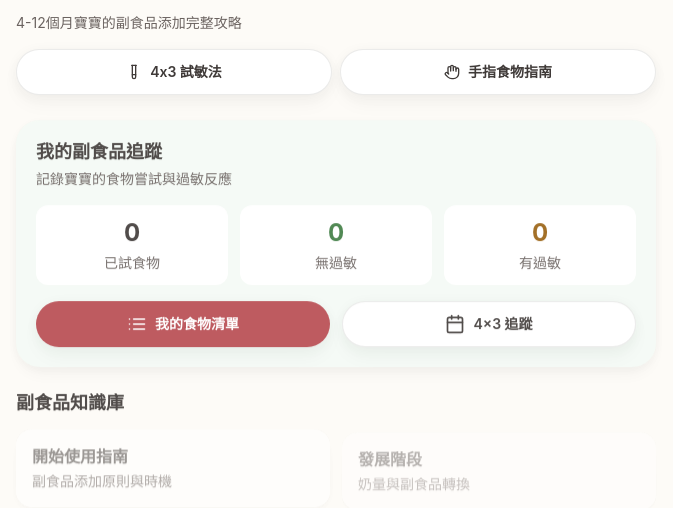
追蹤區的兩個入口 › 「4×3 追蹤」也進到同一個追蹤檢視
Click the button "4×3 追蹤" at (489, 324), box [342, 301, 636, 347]
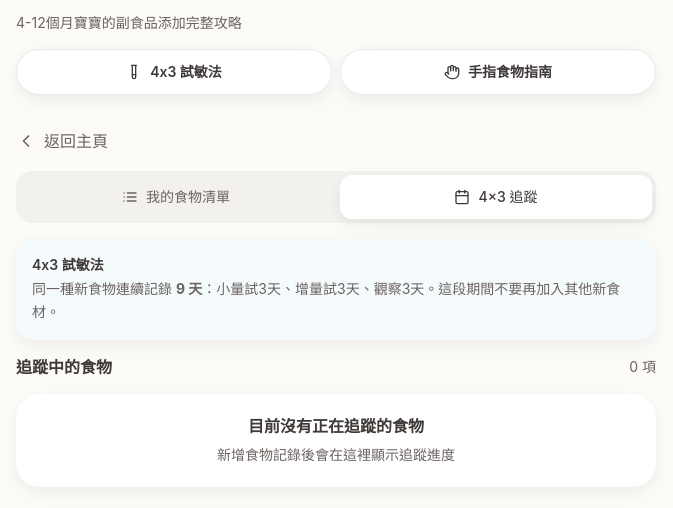
Expected: the button "4×3 追蹤" is shown, [340, 175, 652, 219]
Expected: the heading "我的副食品追蹤" is gone
